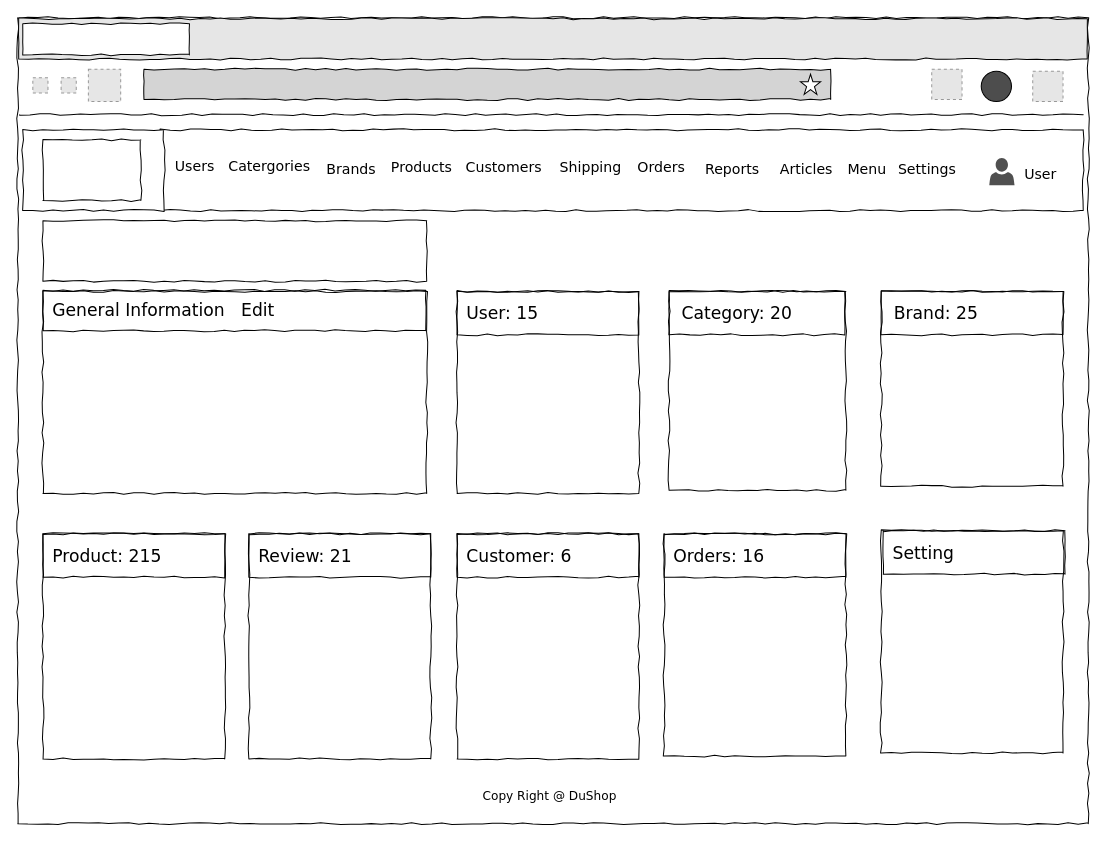
This 1106x841 diagram has some shape labels left out. Grey dashed boxes stand in for pictures. Each missing label, with the box of its shape:
DuShop: (42, 139, 141, 200)
DuShop Control Panel: (42, 220, 427, 281)
Welcome DuShop: (22, 23, 189, 55)
www.DuShopXXXXXXXXXXXXXXXXXXXXXXXXXXXXXXXXXXXXXXXXXXXXXXXXXXXXXXXX: (143, 68, 831, 99)
